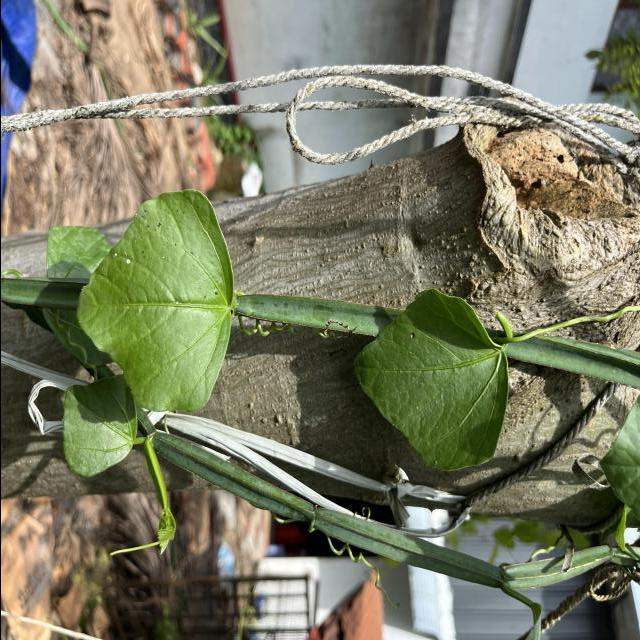Cissus quadrangularis: (74, 188, 235, 414), (348, 285, 510, 475), (59, 372, 140, 480)
